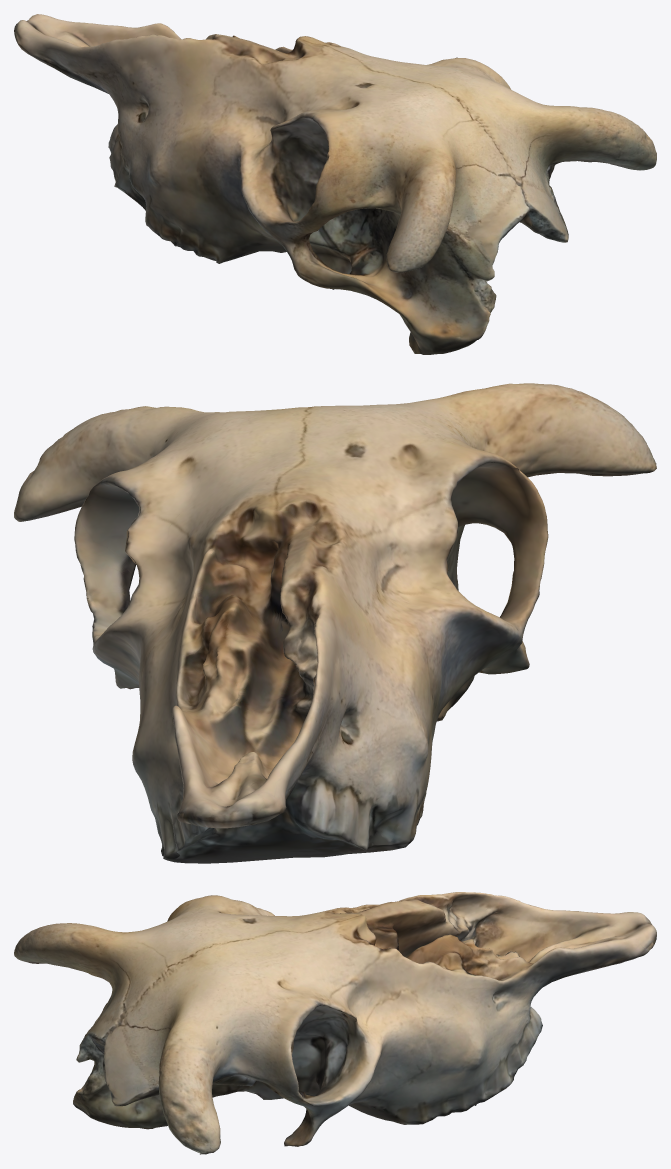
File: Cráneo de cabras.glb
3 views of the same model, one above another, from view 1: azimuth 30°, elevation 25°; view 2: azimuth 150°, elevation 25°; view 3: azimuth 270°, elevation 25° (orthographic). The views are drawn at different scales.
Parts seen in each view (by area): view 1: 3DModel; view 2: 3DModel; view 3: 3DModel.
Boxes of the visible parts, x1=… form: 3DModel: x1=14, y1=14, x2=656, y2=354; 3DModel: x1=14, y1=383, x2=656, y2=863; 3DModel: x1=14, y1=892, x2=656, y2=1154.
Bounding box in the file's own units: 0.6112 × 0.3317 × 0.8996.
Materials: 1 (1 with a texture image).
